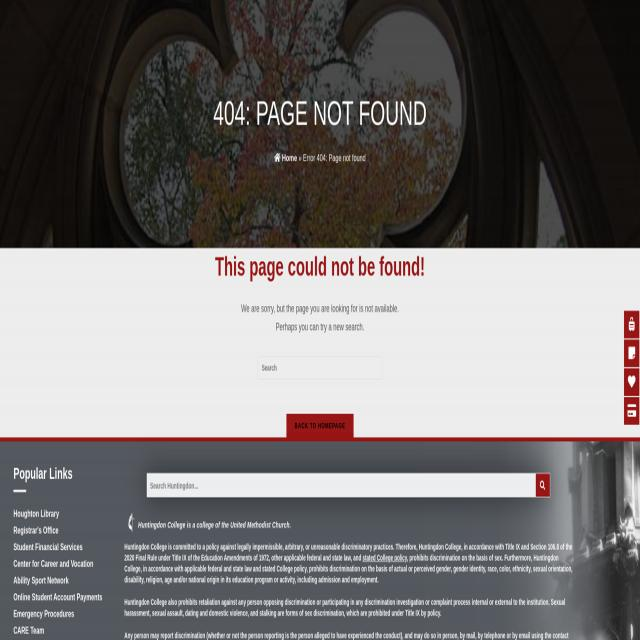button: (286, 414, 354, 438), (124, 505, 139, 539), (624, 396, 639, 426), (624, 312, 640, 338), (624, 341, 640, 367), (624, 370, 639, 394), (536, 473, 550, 497)
field: (147, 473, 536, 498), (258, 356, 382, 379)
